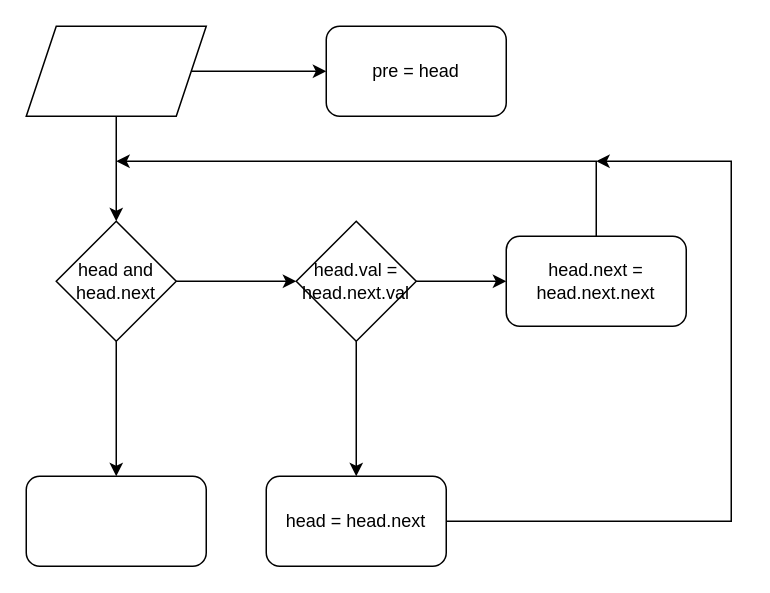
Image size: 770x593. Some labels were removed from this diagram. Here are the shapes that lost their labels. From the top down, the centre of each, then its label:
(x=115, y=70): head
(x=115, y=520): return pre
